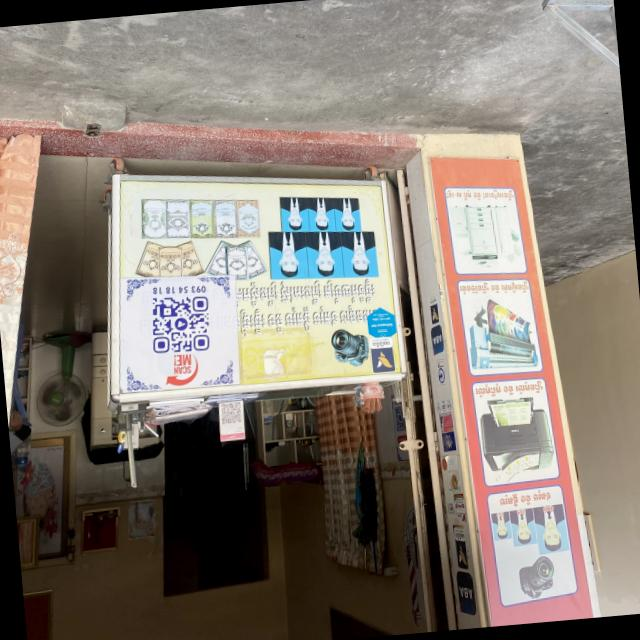2: (242, 277, 378, 308), (474, 379, 544, 398), (457, 280, 529, 296), (498, 488, 552, 509)
3: (444, 187, 514, 200)
4: (240, 304, 364, 337)
447: (151, 284, 207, 296)
701: (495, 511, 504, 518)
739: (516, 506, 527, 517)
763: (543, 503, 555, 514)
Yolov11_80vkh: (371, 339, 390, 347)
